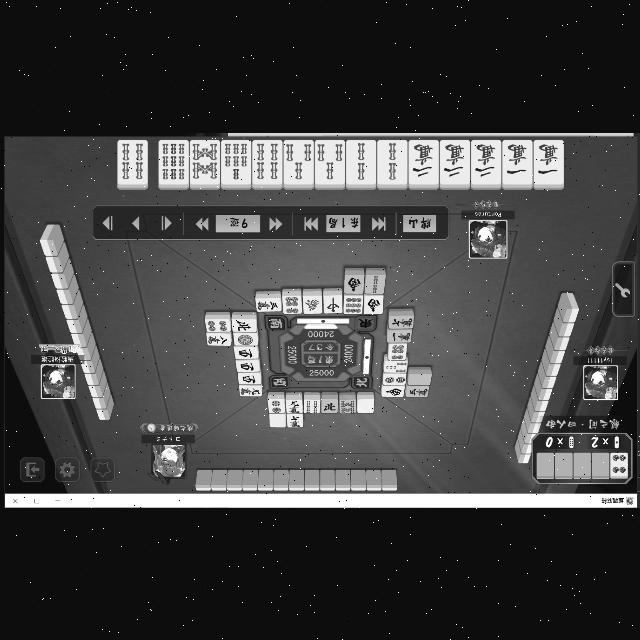1m: (532, 139, 562, 183), (501, 140, 531, 182), (385, 329, 411, 343)
1p: (234, 332, 258, 346)
2m: (440, 140, 470, 183), (408, 140, 438, 183), (471, 141, 499, 183)
2p: (382, 374, 404, 386), (267, 399, 285, 413)
2s: (377, 139, 407, 183), (346, 140, 374, 183), (364, 274, 384, 294)
3m: (254, 297, 280, 311), (406, 385, 428, 397)
3s: (314, 140, 344, 183), (283, 140, 313, 183), (384, 360, 408, 372)
4p: (205, 319, 229, 331)
4s: (251, 139, 281, 183), (116, 140, 146, 183), (304, 400, 320, 414)
6p: (281, 296, 301, 314), (388, 343, 406, 359)
7m: (388, 315, 414, 329), (285, 414, 303, 428)
7s: (220, 140, 250, 184)
8m: (207, 334, 230, 346)
8s: (188, 140, 220, 182), (339, 400, 356, 414)
9m: (285, 400, 301, 414), (238, 386, 260, 396)
9p: (342, 295, 362, 315)
9s: (158, 139, 188, 183)
chun: (322, 294, 342, 314)
haku: (408, 374, 430, 386), (268, 414, 286, 428), (357, 400, 373, 414)
hatsu: (302, 295, 322, 313)
nan: (342, 274, 363, 294), (363, 295, 382, 313), (382, 385, 404, 397)
pe: (231, 320, 255, 332), (321, 398, 337, 414)
sha: (234, 360, 260, 372), (234, 346, 258, 358), (238, 374, 260, 384)
